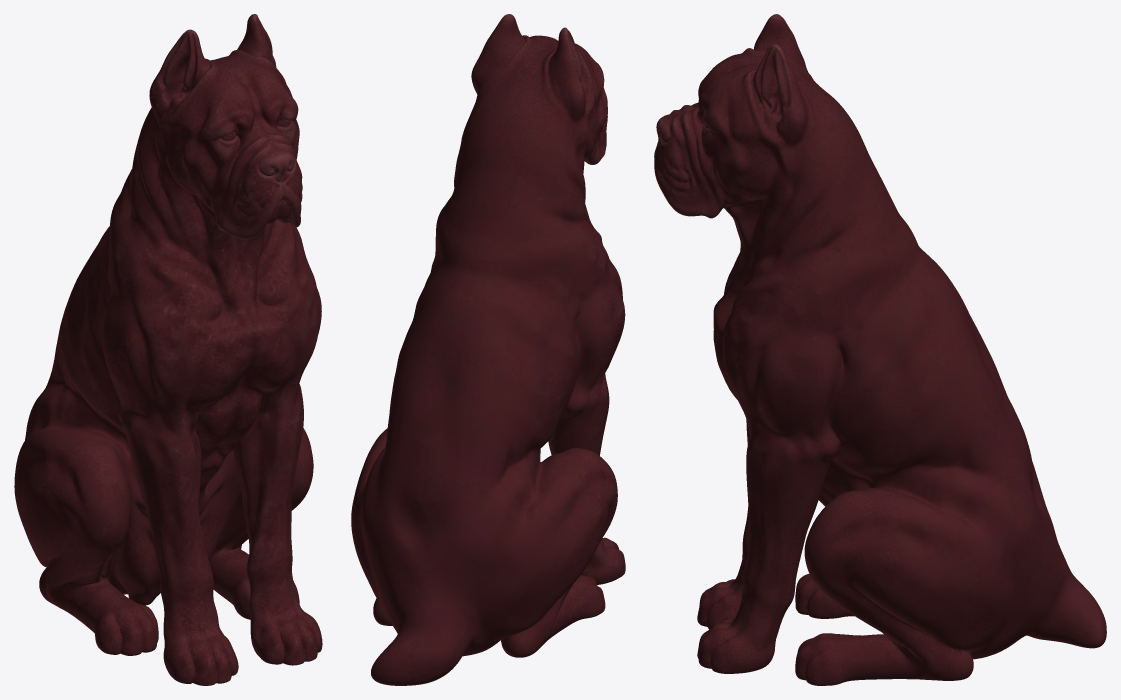
Rendered from dog.glb.
3 renders of one model, left to right at view 1: azimuth 30°, elevation 25°; view 2: azimuth 150°, elevation 25°; view 3: azimuth 270°, elevation 25°, orthographic. The views are drawn at different scales.
Size of the model in its own units: 0.8199 by 1.9 by 1.28.
Materials: 1 (1 with a texture image).
